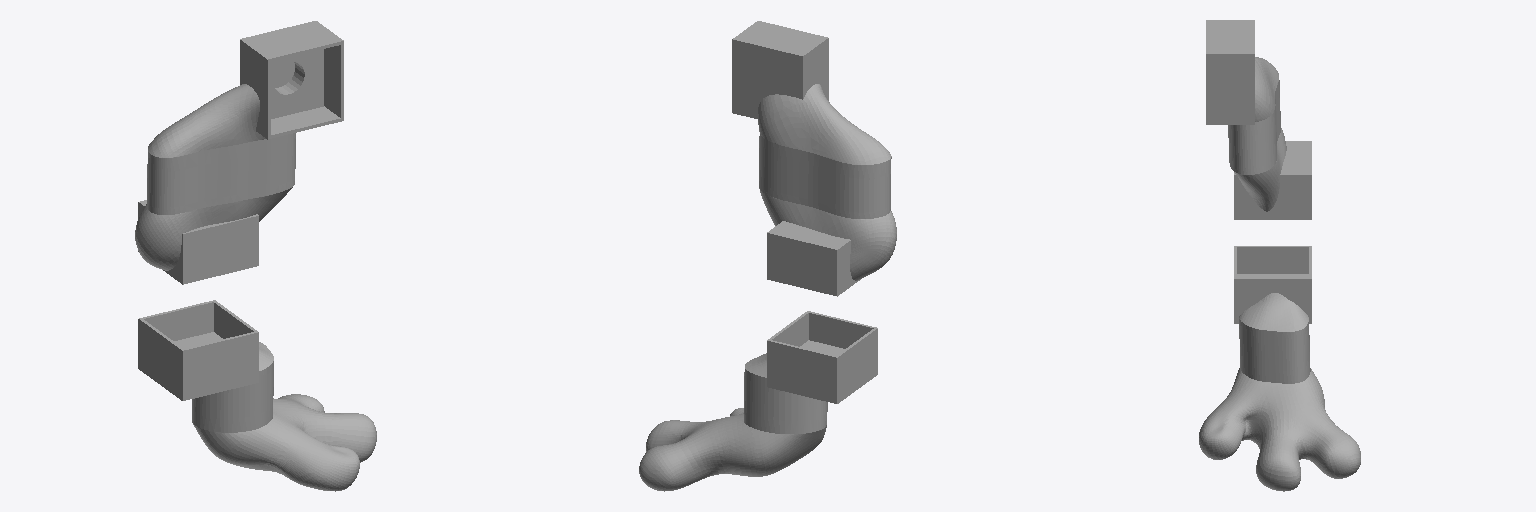
robot.urdf — FrogBot3_top-FrogBot3-z-7_bottom-FrogBot3-z-7:
<?xml version="1.0" ?>
<robot name="FrogBot3_top-FrogBot3-z-7_bottom-FrogBot3-z-7">

<material name="pla_5_percent_infill">
  <color rgba="0.700 0.700 0.700 1.000"/>
</material>

<link name="base_link">
  <inertial>
    <origin xyz="0 0 0" rpy="0 0 0"/>
    <mass value="1.5419899792307459"/>
    <inertia ixx="0.0054836076661745285" iyy="0.013703915460827342" izz="0.013742849788882953" ixy="5.961000823851627e-05" iyz="4.9944941207841843e-05" ixz="-0.0023657822822012154"/>
  </inertial>
  <visual>
    <origin xyz="0 0 0" rpy="0 0 0"/>
    <geometry>
      <mesh filename="simple_meshes/base_link.stl" scale="0.001 0.001 0.001"/>
    </geometry>
    <material name="pla_5_percent_infill"/>
  </visual>
  <collision>
    <origin xyz="0 0 0" rpy="0 0 0"/>
    <geometry>
      <mesh filename="simple_meshes/base_link.stl" scale="0.001 0.001 0.001"/>
    </geometry>
  </collision>
</link>

<link name="body_1_0_1">
  <inertial>
    <origin xyz="-0.065859 -0.113451 -0.001976" rpy="0 0 0"/>
    <mass value="0.053043539838088835"/>
    <inertia ixx="5.834657571515429e-05" iyy="7.60208831396793e-05" izz="2.9803621428430103e-05" ixy="3.6962868672218443e-06" iyz="5.106379882816828e-06" ixz="-1.9361967423098885e-05"/>
  </inertial>
  <visual>
    <origin xyz="-0.065859 -0.113451 -0.001976" rpy="0 0 0"/>
    <geometry>
      <mesh filename="simple_meshes/body_1_0_1.stl" scale="0.001 0.001 0.001"/>
    </geometry>
    <material name="pla_5_percent_infill"/>
  </visual>
  <collision>
    <origin xyz="-0.065859 -0.113451 -0.001976" rpy="0 0 0"/>
    <geometry>
      <mesh filename="simple_meshes/body_1_0_1.stl" scale="0.001 0.001 0.001"/>
    </geometry>
  </collision>
</link>

<link name="body_1_1_1">
  <inertial>
    <origin xyz="0.083929 -0.113451 -0.010696" rpy="0 0 0"/>
    <mass value="0.08163357035082353"/>
    <inertia ixx="8.681990665729018e-05" iyy="0.0001335801403838724" izz="6.62743933373326e-05" ixy="6.920414225631546e-06" iyz="1.2702337247609248e-05" ixz="-3.258225568088377e-05"/>
  </inertial>
  <visual>
    <origin xyz="0.083929 -0.113451 -0.010696" rpy="0 0 0"/>
    <geometry>
      <mesh filename="simple_meshes/body_1_1_1.stl" scale="0.001 0.001 0.001"/>
    </geometry>
    <material name="pla_5_percent_infill"/>
  </visual>
  <collision>
    <origin xyz="0.083929 -0.113451 -0.010696" rpy="0 0 0"/>
    <geometry>
      <mesh filename="simple_meshes/body_1_1_1.stl" scale="0.001 0.001 0.001"/>
    </geometry>
  </collision>
</link>

<link name="body_1_2_1">
  <inertial>
    <origin xyz="-0.060736 0.113451 -0.005366" rpy="0 0 0"/>
    <mass value="0.0551399017394902"/>
    <inertia ixx="6.389904788591232e-05" iyy="8.02455428964743e-05" izz="2.9431030167596187e-05" ixy="-3.73410482462427e-06" iyz="-7.290346298248127e-06" ixz="-2.019227629638238e-05"/>
  </inertial>
  <visual>
    <origin xyz="-0.060736 0.113451 -0.005366" rpy="0 0 0"/>
    <geometry>
      <mesh filename="simple_meshes/body_1_2_1.stl" scale="0.001 0.001 0.001"/>
    </geometry>
    <material name="pla_5_percent_infill"/>
  </visual>
  <collision>
    <origin xyz="-0.060736 0.113451 -0.005366" rpy="0 0 0"/>
    <geometry>
      <mesh filename="simple_meshes/body_1_2_1.stl" scale="0.001 0.001 0.001"/>
    </geometry>
  </collision>
</link>

<link name="body_1_3_1">
  <inertial>
    <origin xyz="0.093982 0.113451 -0.005431" rpy="0 0 0"/>
    <mass value="0.08428276197481548"/>
    <inertia ixx="8.141265736494926e-05" iyy="0.00011973094756723775" izz="6.0239848588764053e-05" ixy="-5.25905953968858e-06" iyz="-1.1417555271655048e-05" ixz="-2.4118533207564312e-05"/>
  </inertial>
  <visual>
    <origin xyz="0.093982 0.113451 -0.005431" rpy="0 0 0"/>
    <geometry>
      <mesh filename="simple_meshes/body_1_3_1.stl" scale="0.001 0.001 0.001"/>
    </geometry>
    <material name="pla_5_percent_infill"/>
  </visual>
  <collision>
    <origin xyz="0.093982 0.113451 -0.005431" rpy="0 0 0"/>
    <geometry>
      <mesh filename="simple_meshes/body_1_3_1.stl" scale="0.001 0.001 0.001"/>
    </geometry>
  </collision>
</link>

<link name="body_2_0_1">
  <inertial>
    <origin xyz="-0.026166 -0.164707 0.117895" rpy="0 0 0"/>
    <mass value="0.11190820490946587"/>
    <inertia ixx="0.00012589042713074313" iyy="0.00025382901380705414" izz="0.00020942113111735786" ixy="3.331543489290111e-06" iyz="-4.723020091989584e-06" ixz="9.667724539771461e-05"/>
  </inertial>
  <visual>
    <origin xyz="-0.026166 -0.164707 0.117895" rpy="0 0 0"/>
    <geometry>
      <mesh filename="simple_meshes/body_2_0_1.stl" scale="0.001 0.001 0.001"/>
    </geometry>
    <material name="pla_5_percent_infill"/>
  </visual>
  <collision>
    <origin xyz="-0.026166 -0.164707 0.117895" rpy="0 0 0"/>
    <geometry>
      <mesh filename="simple_meshes/body_2_0_1.stl" scale="0.001 0.001 0.001"/>
    </geometry>
  </collision>
</link>

<link name="body_2_1_1">
  <inertial>
    <origin xyz="0.127747 -0.174737 0.117895" rpy="0 0 0"/>
    <mass value="0.08960212789743961"/>
    <inertia ixx="8.891329605105382e-05" iyy="0.00014025876663105279" izz="0.00010855875241271408" ixy="-1.0145042956828448e-05" iyz="5.1235832660293315e-06" ixz="5.325952804987135e-05"/>
  </inertial>
  <visual>
    <origin xyz="0.127747 -0.174737 0.117895" rpy="0 0 0"/>
    <geometry>
      <mesh filename="simple_meshes/body_2_1_1.stl" scale="0.001 0.001 0.001"/>
    </geometry>
    <material name="pla_5_percent_infill"/>
  </visual>
  <collision>
    <origin xyz="0.127747 -0.174737 0.117895" rpy="0 0 0"/>
    <geometry>
      <mesh filename="simple_meshes/body_2_1_1.stl" scale="0.001 0.001 0.001"/>
    </geometry>
  </collision>
</link>

<link name="body_2_2_1">
  <inertial>
    <origin xyz="-0.021708 0.167525 0.117895" rpy="0 0 0"/>
    <mass value="0.11001885322263921"/>
    <inertia ixx="0.00012372221621220238" iyy="0.00024941794825987344" izz="0.00020478018949346855" ixy="2.7792629711666066e-06" iyz="-2.0459518643776813e-06" ixz="9.552628841716219e-05"/>
  </inertial>
  <visual>
    <origin xyz="-0.021708 0.167525 0.117895" rpy="0 0 0"/>
    <geometry>
      <mesh filename="simple_meshes/body_2_2_1.stl" scale="0.001 0.001 0.001"/>
    </geometry>
    <material name="pla_5_percent_infill"/>
  </visual>
  <collision>
    <origin xyz="-0.021708 0.167525 0.117895" rpy="0 0 0"/>
    <geometry>
      <mesh filename="simple_meshes/body_2_2_1.stl" scale="0.001 0.001 0.001"/>
    </geometry>
  </collision>
</link>

<link name="body_2_3_1">
  <inertial>
    <origin xyz="0.128136 0.172985 0.117895" rpy="0 0 0"/>
    <mass value="0.08493565636271648"/>
    <inertia ixx="8.812936748404249e-05" iyy="0.0001311382465969159" izz="0.00010574016759361737" ixy="8.329588790313442e-06" iyz="-6.529025132335359e-06" ixz="4.863055196792582e-05"/>
  </inertial>
  <visual>
    <origin xyz="0.128136 0.172985 0.117895" rpy="0 0 0"/>
    <geometry>
      <mesh filename="simple_meshes/body_2_3_1.stl" scale="0.001 0.001 0.001"/>
    </geometry>
    <material name="pla_5_percent_infill"/>
  </visual>
  <collision>
    <origin xyz="0.128136 0.172985 0.117895" rpy="0 0 0"/>
    <geometry>
      <mesh filename="simple_meshes/body_2_3_1.stl" scale="0.001 0.001 0.001"/>
    </geometry>
  </collision>
</link>

<joint name="joint_1_0" type="revolute">
  <origin xyz="0.065859 0.113451 0.001976" rpy="0 0 0"/>
  <parent link="base_link"/>
  <child link="body_1_0_1"/>
  <axis xyz="0.0 1.0 0.0"/>
  <limit upper="1.2" lower="-1.2" effort="3.8" velocity="5.4"/>
</joint>
<transmission name="joint_1_0_tran">
  <type>transmission_interface/SimpleTransmission</type>
  <joint name="joint_1_0">
    <hardwareInterface>PositionJointInterface</hardwareInterface>
  </joint>
  <actuator name="joint_1_0_actr">
    <hardwareInterface>PositionJointInterface</hardwareInterface>
    <mechanicalReduction>1</mechanicalReduction>
  </actuator>
</transmission>

<joint name="joint_1_1" type="revolute">
  <origin xyz="-0.083929 0.113451 0.010696" rpy="0 0 0"/>
  <parent link="base_link"/>
  <child link="body_1_1_1"/>
  <axis xyz="0.0 1.0 0.0"/>
  <limit upper="1.2" lower="-1.2" effort="3.8" velocity="5.4"/>
</joint>
<transmission name="joint_1_1_tran">
  <type>transmission_interface/SimpleTransmission</type>
  <joint name="joint_1_1">
    <hardwareInterface>PositionJointInterface</hardwareInterface>
  </joint>
  <actuator name="joint_1_1_actr">
    <hardwareInterface>PositionJointInterface</hardwareInterface>
    <mechanicalReduction>1</mechanicalReduction>
  </actuator>
</transmission>

<joint name="joint_1_2" type="revolute">
  <origin xyz="0.060736 -0.113451 0.005366" rpy="0 0 0"/>
  <parent link="base_link"/>
  <child link="body_1_2_1"/>
  <axis xyz="0.0 1.0 0.0"/>
  <limit upper="1.2" lower="-1.2" effort="3.8" velocity="5.4"/>
</joint>
<transmission name="joint_1_2_tran">
  <type>transmission_interface/SimpleTransmission</type>
  <joint name="joint_1_2">
    <hardwareInterface>PositionJointInterface</hardwareInterface>
  </joint>
  <actuator name="joint_1_2_actr">
    <hardwareInterface>PositionJointInterface</hardwareInterface>
    <mechanicalReduction>1</mechanicalReduction>
  </actuator>
</transmission>

<joint name="joint_1_3" type="revolute">
  <origin xyz="-0.093982 -0.113451 0.005431" rpy="0 0 0"/>
  <parent link="base_link"/>
  <child link="body_1_3_1"/>
  <axis xyz="0.0 1.0 0.0"/>
  <limit upper="1.2" lower="-1.2" effort="3.8" velocity="5.4"/>
</joint>
<transmission name="joint_1_3_tran">
  <type>transmission_interface/SimpleTransmission</type>
  <joint name="joint_1_3">
    <hardwareInterface>PositionJointInterface</hardwareInterface>
  </joint>
  <actuator name="joint_1_3_actr">
    <hardwareInterface>PositionJointInterface</hardwareInterface>
    <mechanicalReduction>1</mechanicalReduction>
  </actuator>
</transmission>

<joint name="joint_2_0" type="revolute">
  <origin xyz="-0.039693 0.051256 -0.119871" rpy="0 0 0"/>
  <parent link="body_1_0_1"/>
  <child link="body_2_0_1"/>
  <axis xyz="0.0 0.0 1.0"/>
  <limit upper="1.2" lower="-1.2" effort="3.8" velocity="5.4"/>
</joint>
<transmission name="joint_2_0_tran">
  <type>transmission_interface/SimpleTransmission</type>
  <joint name="joint_2_0">
    <hardwareInterface>PositionJointInterface</hardwareInterface>
  </joint>
  <actuator name="joint_2_0_actr">
    <hardwareInterface>PositionJointInterface</hardwareInterface>
    <mechanicalReduction>1</mechanicalReduction>
  </actuator>
</transmission>

<joint name="joint_2_1" type="revolute">
  <origin xyz="-0.043818 0.061286 -0.128591" rpy="0 0 0"/>
  <parent link="body_1_1_1"/>
  <child link="body_2_1_1"/>
  <axis xyz="0.0 0.0 1.0"/>
  <limit upper="1.2" lower="-1.2" effort="3.8" velocity="5.4"/>
</joint>
<transmission name="joint_2_1_tran">
  <type>transmission_interface/SimpleTransmission</type>
  <joint name="joint_2_1">
    <hardwareInterface>PositionJointInterface</hardwareInterface>
  </joint>
  <actuator name="joint_2_1_actr">
    <hardwareInterface>PositionJointInterface</hardwareInterface>
    <mechanicalReduction>1</mechanicalReduction>
  </actuator>
</transmission>

<joint name="joint_2_2" type="revolute">
  <origin xyz="-0.039028 -0.054074 -0.123261" rpy="0 0 0"/>
  <parent link="body_1_2_1"/>
  <child link="body_2_2_1"/>
  <axis xyz="0.0 0.0 1.0"/>
  <limit upper="1.2" lower="-1.2" effort="3.8" velocity="5.4"/>
</joint>
<transmission name="joint_2_2_tran">
  <type>transmission_interface/SimpleTransmission</type>
  <joint name="joint_2_2">
    <hardwareInterface>PositionJointInterface</hardwareInterface>
  </joint>
  <actuator name="joint_2_2_actr">
    <hardwareInterface>PositionJointInterface</hardwareInterface>
    <mechanicalReduction>1</mechanicalReduction>
  </actuator>
</transmission>

<joint name="joint_2_3" type="revolute">
  <origin xyz="-0.034154 -0.059534 -0.123326" rpy="0 0 0"/>
  <parent link="body_1_3_1"/>
  <child link="body_2_3_1"/>
  <axis xyz="0.0 0.0 1.0"/>
  <limit upper="1.2" lower="-1.2" effort="3.8" velocity="5.4"/>
</joint>
<transmission name="joint_2_3_tran">
  <type>transmission_interface/SimpleTransmission</type>
  <joint name="joint_2_3">
    <hardwareInterface>PositionJointInterface</hardwareInterface>
  </joint>
  <actuator name="joint_2_3_actr">
    <hardwareInterface>PositionJointInterface</hardwareInterface>
    <mechanicalReduction>1</mechanicalReduction>
  </actuator>
</transmission>

</robot>

--- Render facts (derived) ---
The picture shows the robot from 3 angles, left to right: view 1: azimuth 30°, elevation 25°; view 2: azimuth 150°, elevation 25°; view 3: azimuth 270°, elevation 25°; orthographic projection.
Model FrogBot3_top-FrogBot3-z-7_bottom-FrogBot3-z-7 with 9 links and 8 joints (8 revolute), rooted at base_link, posed every joint at zero.
Visible links, largest first — view 1: body_1_1_1, body_2_1_1; view 2: body_1_1_1, body_2_1_1; view 3: body_2_1_1, body_1_1_1.
Boxes of the visible links, x1,y1,x2,y2 form: body_1_1_1: (135, 21, 343, 284); body_2_1_1: (138, 300, 376, 491); body_1_1_1: (732, 21, 896, 296); body_2_1_1: (639, 311, 877, 491); body_2_1_1: (1199, 246, 1360, 491); body_1_1_1: (1206, 20, 1311, 219).
Size in the robot's own frame: 0.1579 by 0.0997 by 0.2789 metres.
Meshes: 9 distinct files referenced, 2 mesh visuals loaded (2 binary STL); not drawn: 7 (reference not matched to a file when rendering).